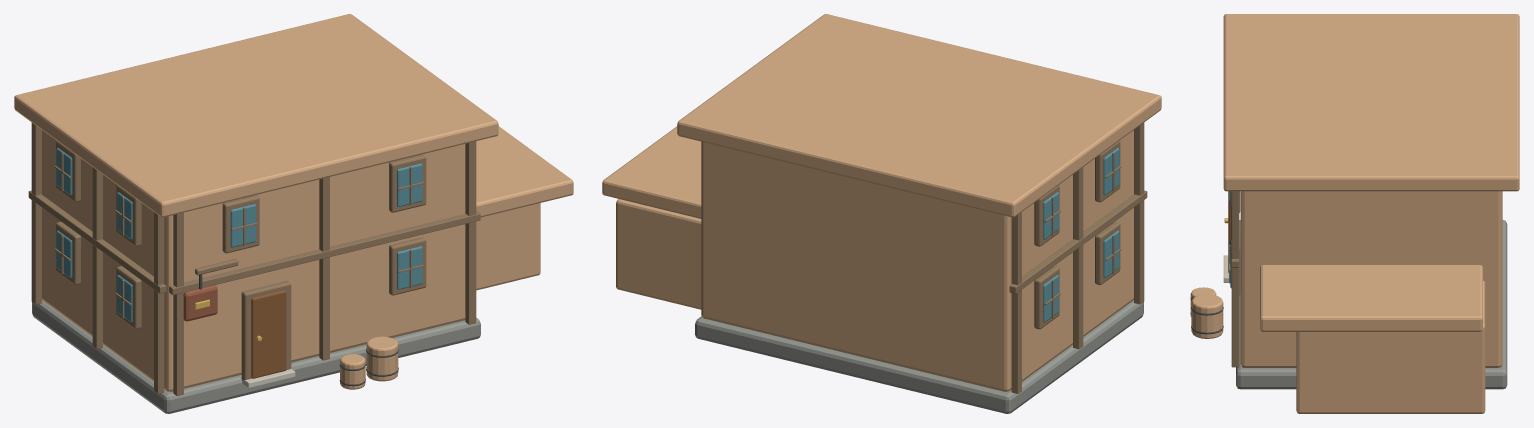
Rendered from arid-inn-0.glb.
3 views of the same model, side by side, from view 1: azimuth 30°, elevation 25°; view 2: azimuth 150°, elevation 25°; view 3: azimuth 270°, elevation 25° (orthographic).
Visible parts, largest first — view 1: Adobe cream, Palm beams, Foundation stone, Adobe wood, Blue glass, Door oak, Painted sign; view 2: Adobe cream, Palm beams, Foundation stone, Adobe wood, Blue glass; view 3: Adobe cream, Adobe wood, Foundation stone, Palm beams.
Part boxes in pixels (bbox=[...]): Adobe cream: bbox=[14, 14, 573, 391]; Palm beams: bbox=[28, 122, 480, 395]; Foundation stone: bbox=[32, 300, 480, 413]; Adobe wood: bbox=[340, 203, 540, 389]; Blue glass: bbox=[56, 148, 422, 322]; Door oak: bbox=[251, 290, 286, 378]; Painted sign: bbox=[183, 285, 217, 321]; Adobe cream: bbox=[602, 14, 1161, 391]; Palm beams: bbox=[1009, 122, 1147, 393]; Foundation stone: bbox=[695, 300, 1143, 413]; Adobe wood: bbox=[616, 199, 701, 309]; Blue glass: bbox=[1043, 148, 1119, 322]; Adobe cream: bbox=[1223, 14, 1519, 367]; Adobe wood: bbox=[1190, 280, 1485, 413]; Foundation stone: bbox=[1236, 220, 1507, 389]; Palm beams: bbox=[1229, 191, 1240, 367].
Bounding box in the file's own units: 6.44 × 3.14 × 4.27.
